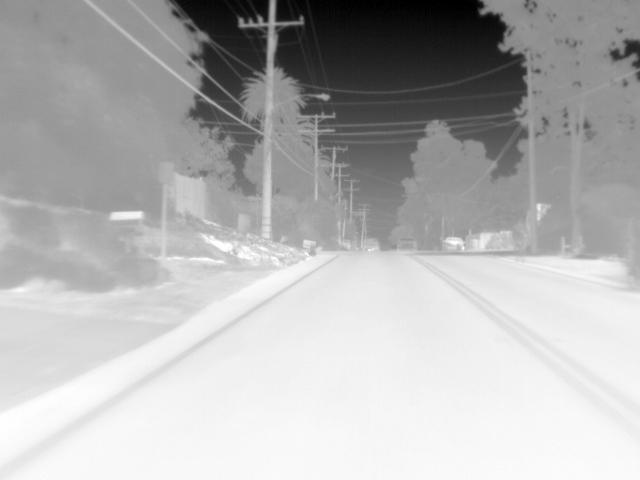car: (441, 235, 468, 253), (395, 238, 419, 254), (363, 237, 380, 252)
person: (625, 211, 640, 274), (511, 218, 530, 256)
